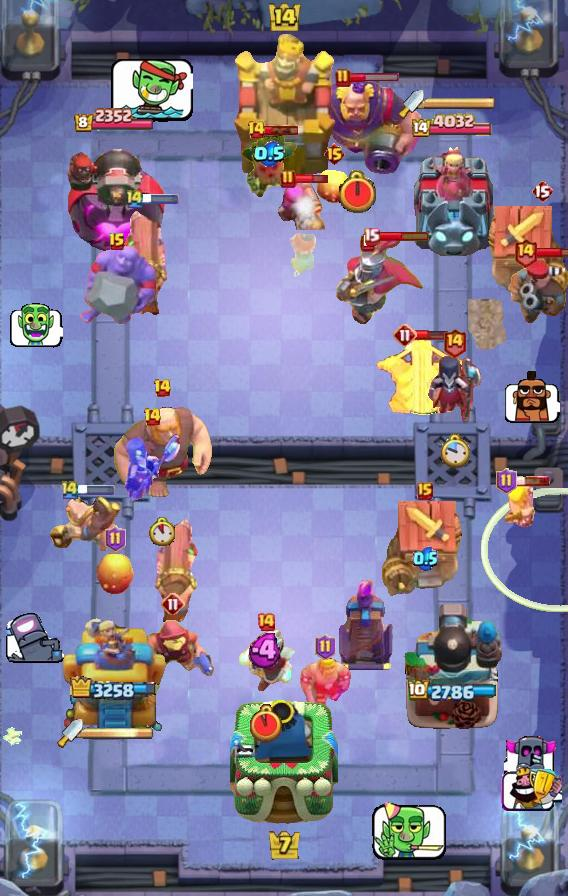archer: (297, 656, 353, 706), (505, 484, 535, 528)
archer-queen: (76, 243, 158, 327)
balloon: (109, 403, 215, 501)
bar: (61, 615, 166, 731), (409, 142, 497, 256)
battle-healer: (121, 203, 169, 317), (153, 511, 201, 625)
electro-spirit: (248, 632, 285, 667), (253, 141, 287, 167), (414, 546, 438, 571)
elixir: (338, 170, 379, 215), (250, 705, 282, 744), (439, 433, 469, 470), (149, 518, 175, 546)
emote: (378, 230, 431, 242), (349, 73, 400, 84), (295, 172, 330, 185), (514, 475, 550, 487), (264, 124, 300, 135), (415, 329, 448, 341), (536, 246, 568, 258), (142, 194, 180, 204), (78, 485, 116, 495)
fireball: (130, 619, 216, 697)
fisherman: (468, 299, 506, 349)
freeze: (48, 494, 124, 556)
goblin-barrel: (240, 134, 298, 202)
hog: (95, 552, 135, 596), (317, 166, 351, 204)
hog-rider: (283, 228, 321, 280)
ice-spirit-evolution-symbol: (336, 580, 396, 672)
king-tower: (231, 35, 337, 182), (230, 698, 338, 826)
king-tower-bar: (424, 97, 496, 111), (83, 726, 153, 740)
lava-pup: (373, 336, 471, 418)
lightning: (288, 78, 426, 174)
mortar: (237, 628, 295, 694)
phoenix-small: (506, 256, 568, 324)
rascal-boy: (121, 432, 183, 504), (425, 354, 483, 426)
selected: (69, 676, 158, 703), (413, 112, 496, 140), (73, 108, 155, 134), (409, 680, 500, 703)
skeleton: (108, 56, 193, 126), (369, 796, 447, 864), (6, 613, 66, 665), (504, 370, 561, 424), (500, 766, 562, 813), (504, 734, 558, 782), (9, 303, 63, 348)
sparky: (482, 205, 568, 303), (382, 500, 468, 598)
text: (442, 326, 467, 357), (513, 237, 538, 267), (393, 323, 417, 347), (161, 592, 185, 616), (495, 468, 517, 494), (322, 142, 345, 166), (105, 526, 126, 552), (316, 634, 337, 660), (531, 179, 553, 203), (125, 187, 145, 209), (60, 479, 80, 501), (256, 612, 276, 632), (246, 120, 265, 140), (152, 378, 171, 398), (143, 407, 162, 427), (108, 232, 126, 252), (335, 68, 351, 88), (280, 169, 296, 189), (364, 227, 381, 245), (417, 482, 433, 500)
tombstone: (275, 176, 325, 230)
tower-bar: (403, 601, 503, 731), (62, 138, 166, 256)
wall-breaker-evolution: (334, 232, 426, 326)
